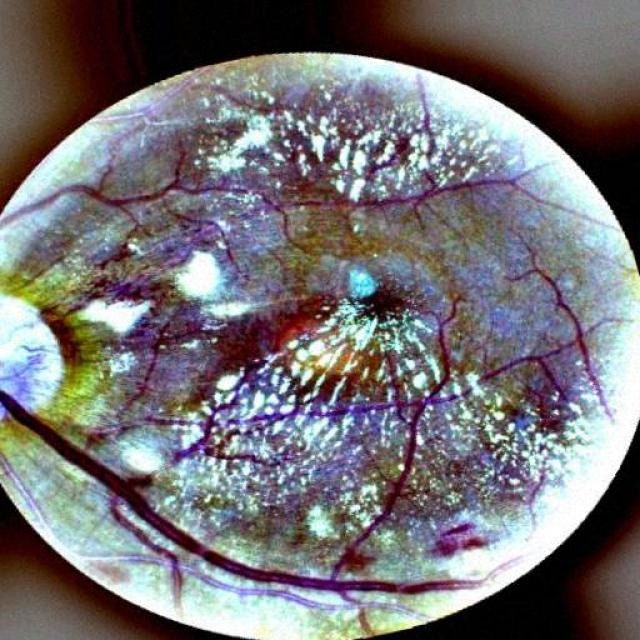Macula: (364, 282, 413, 322)
Nerves: (0, 300, 484, 609), (480, 265, 609, 414), (253, 169, 551, 216), (0, 174, 249, 228), (171, 400, 288, 465), (140, 324, 210, 389), (434, 521, 488, 556)
Optic Disk: (0, 294, 62, 409)
